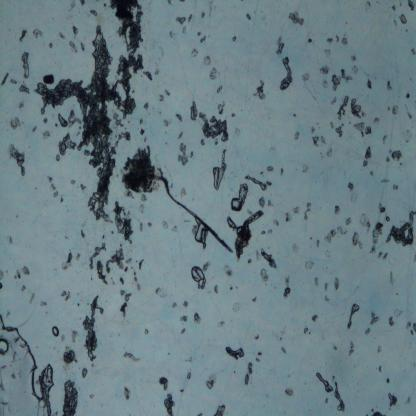Air bubble: (0, 314, 54, 415), (231, 181, 250, 212), (332, 381, 348, 414), (346, 300, 362, 332), (190, 265, 209, 290), (314, 373, 334, 395), (245, 174, 269, 192), (336, 92, 350, 122), (18, 51, 32, 78), (193, 221, 207, 247), (55, 113, 69, 129), (190, 101, 200, 122), (260, 269, 272, 284), (277, 40, 286, 58), (161, 116, 172, 130), (212, 282, 222, 297), (50, 326, 61, 339), (18, 85, 32, 95), (363, 146, 373, 160), (334, 125, 344, 138), (80, 366, 89, 378), (137, 204, 147, 214), (346, 182, 356, 191), (216, 83, 224, 94), (266, 164, 274, 173), (376, 345, 383, 354), (10, 79, 19, 85), (385, 214, 391, 223), (169, 29, 174, 39), (302, 327, 309, 334), (139, 118, 144, 126), (247, 258, 253, 264), (308, 38, 313, 45)
Background material: (34, 26, 148, 223), (109, 0, 148, 55), (200, 100, 238, 150), (120, 145, 158, 194), (81, 294, 105, 361), (112, 200, 138, 246), (385, 211, 416, 247), (6, 144, 29, 180), (211, 150, 230, 191), (61, 379, 81, 416), (107, 247, 133, 274), (278, 56, 295, 94), (88, 241, 106, 272), (369, 219, 384, 254), (174, 142, 192, 166), (262, 248, 280, 272), (57, 134, 77, 153), (224, 345, 245, 363), (253, 77, 268, 102), (59, 251, 75, 272), (95, 262, 109, 286), (121, 350, 142, 365), (60, 349, 78, 366), (286, 12, 305, 28), (131, 271, 143, 295), (359, 213, 372, 235), (164, 394, 177, 416), (8, 115, 23, 133), (156, 376, 171, 394), (13, 266, 32, 280), (303, 200, 315, 222), (354, 120, 366, 142), (282, 274, 293, 298), (338, 67, 354, 83), (368, 308, 382, 326), (350, 97, 362, 118), (205, 372, 218, 390), (387, 390, 399, 409), (154, 285, 169, 300), (221, 264, 236, 279), (352, 233, 364, 251), (330, 74, 342, 92), (282, 384, 296, 398), (32, 28, 46, 42), (122, 385, 132, 404), (346, 339, 356, 358), (68, 40, 81, 54), (393, 305, 406, 319), (317, 64, 332, 76), (27, 291, 39, 306), (212, 404, 227, 416), (387, 268, 396, 288), (70, 329, 80, 346), (349, 190, 361, 204), (336, 226, 350, 238), (324, 230, 336, 244), (283, 211, 295, 225), (42, 74, 57, 85), (405, 319, 416, 334), (404, 103, 413, 121), (391, 150, 404, 162), (59, 290, 72, 302), (192, 312, 203, 326), (136, 257, 146, 272), (0, 72, 10, 87), (142, 70, 154, 82), (202, 55, 214, 67), (376, 249, 388, 261), (120, 301, 128, 319), (310, 134, 321, 147), (18, 30, 29, 43), (174, 16, 187, 27), (242, 372, 252, 386), (365, 125, 375, 139), (404, 130, 414, 144), (67, 0, 77, 14), (210, 68, 219, 83), (178, 313, 189, 325), (332, 204, 344, 215), (187, 49, 200, 59), (160, 219, 170, 232), (71, 25, 81, 38), (246, 360, 254, 376), (334, 276, 342, 292), (399, 12, 408, 26), (370, 408, 385, 416), (323, 49, 333, 61), (57, 29, 67, 41), (304, 260, 316, 270), (320, 78, 330, 90), (381, 134, 391, 146), (301, 72, 311, 84), (175, 111, 184, 124), (75, 252, 84, 265), (6, 233, 15, 246), (406, 0, 416, 11), (322, 282, 332, 293), (252, 332, 262, 343), (233, 302, 242, 314), (0, 271, 5, 292), (177, 128, 185, 141), (378, 201, 386, 214), (325, 147, 333, 160), (44, 174, 54, 184), (310, 312, 320, 322), (124, 291, 133, 302), (180, 186, 187, 200), (300, 164, 308, 176), (364, 325, 372, 337), (80, 41, 88, 53), (90, 7, 98, 19), (391, 105, 399, 117), (365, 0, 372, 13), (259, 197, 266, 210), (170, 226, 180, 235), (137, 222, 146, 232), (392, 182, 401, 192), (38, 299, 48, 308), (292, 206, 301, 216), (386, 81, 394, 92), (187, 13, 195, 24), (143, 326, 151, 337), (142, 101, 150, 112), (366, 79, 374, 90), (388, 316, 396, 327), (378, 178, 392, 184), (54, 153, 61, 165), (345, 217, 354, 226), (266, 199, 275, 208), (42, 130, 51, 139), (118, 278, 127, 287), (182, 300, 191, 309), (30, 124, 38, 134), (328, 97, 338, 105), (324, 294, 332, 304), (342, 38, 352, 46), (403, 396, 411, 406), (108, 276, 116, 286), (52, 190, 60, 200), (140, 193, 148, 203), (278, 165, 284, 178), (158, 93, 165, 104), (293, 130, 300, 141), (18, 101, 26, 110), (316, 236, 322, 248), (245, 13, 254, 21), (372, 118, 381, 126), (252, 296, 260, 305), (217, 320, 226, 328), (391, 3, 397, 15), (233, 126, 240, 136), (79, 182, 86, 192), (256, 248, 261, 262), (42, 115, 49, 125), (362, 159, 369, 169), (274, 218, 280, 229), (20, 284, 26, 295), (350, 55, 358, 63), (326, 37, 334, 45), (179, 327, 187, 335), (404, 92, 412, 100), (280, 348, 288, 356), (256, 350, 264, 358), (230, 35, 238, 43), (171, 300, 178, 309), (164, 88, 171, 97), (369, 168, 376, 177), (320, 136, 327, 145), (199, 36, 208, 43), (314, 277, 320, 287), (385, 154, 391, 164), (80, 229, 86, 239), (200, 12, 206, 21), (146, 220, 152, 229), (377, 365, 383, 374), (78, 0, 85, 7), (89, 392, 95, 400), (140, 129, 146, 137), (267, 227, 273, 235), (310, 126, 316, 134), (410, 48, 416, 56), (48, 42, 54, 50), (50, 184, 56, 192), (197, 30, 202, 39), (332, 345, 338, 352), (330, 121, 335, 129), (60, 194, 64, 204), (292, 112, 298, 118), (70, 179, 76, 185), (256, 356, 262, 362), (121, 289, 126, 296), (387, 104, 391, 112), (386, 376, 390, 384)
Cotton: (149, 172, 235, 256), (234, 211, 264, 260)
Glass filter fibre: (177, 365, 194, 415), (260, 230, 266, 236)
